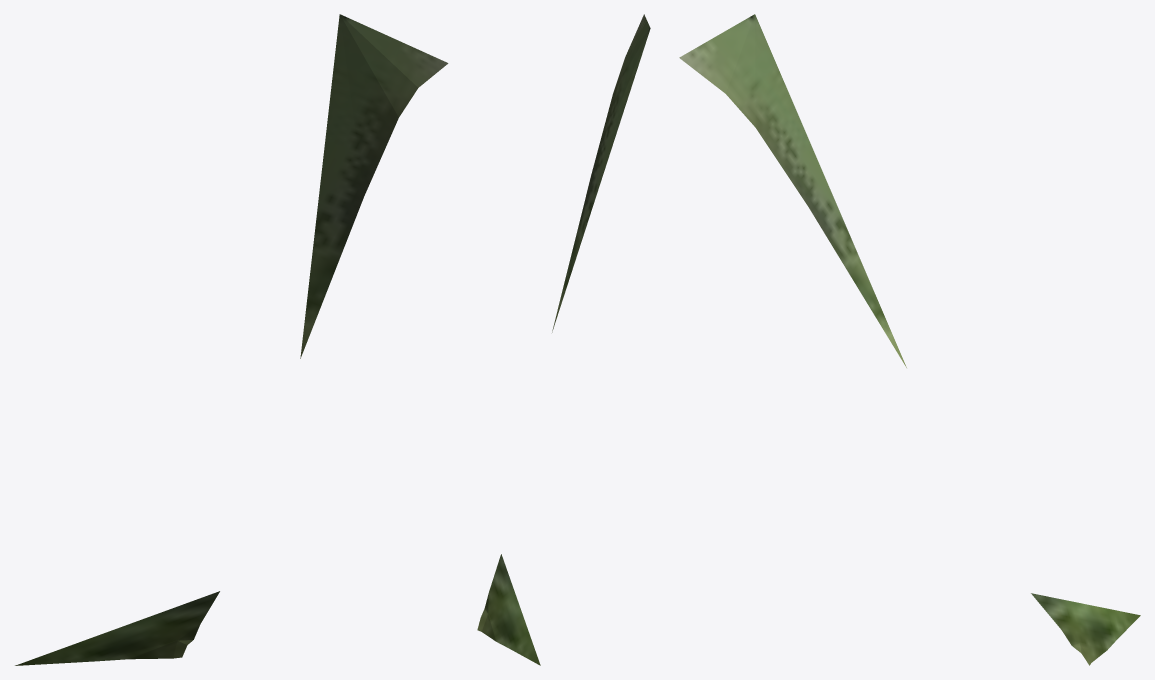
3 renders of one model, left to right at view 1: azimuth 30°, elevation 25°; view 2: azimuth 150°, elevation 25°; view 3: azimuth 270°, elevation 25°, orthographic. The views are drawn at different scales.
Size of the model in its own units: 4.5 by 26.12 by 17.37.
Materials: 1 (1 with a texture image).
